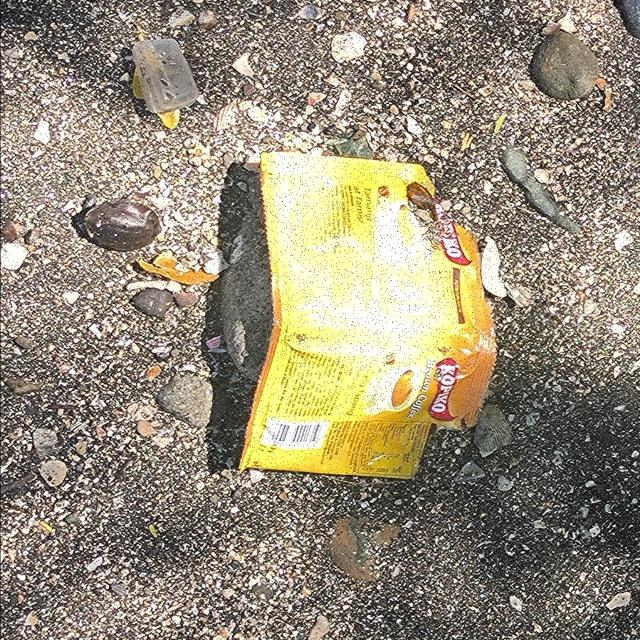plastic_waste: (235, 152, 497, 482)
